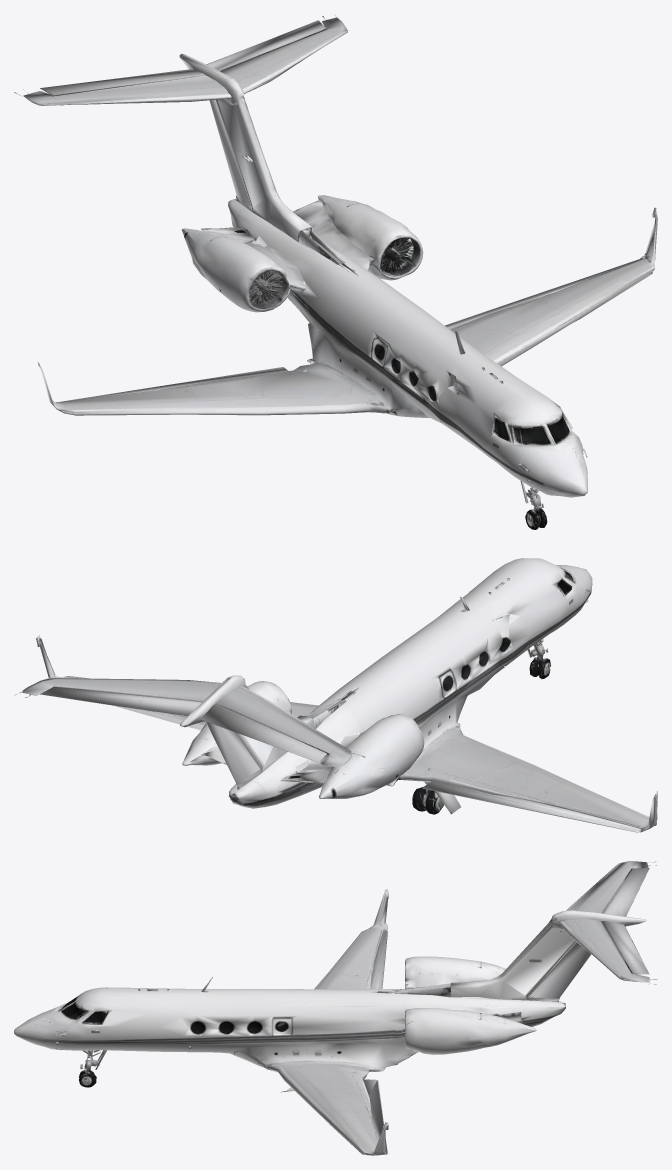
Rendered from private_jet.glb.
3 views of the same model, one above another, from view 1: azimuth 30°, elevation 25°; view 2: azimuth 150°, elevation 25°; view 3: azimuth 270°, elevation 25° (orthographic). The views are drawn at different scales.
Parts seen in each view (by area): view 1: prop; view 2: prop; view 3: prop.
Boxes of the visible parts, box(x1,y1,x2,y2) form: prop: box(14, 14, 657, 529); prop: box(14, 558, 657, 832); prop: box(14, 861, 657, 1155).
Bounding box in the file's own units: 11.29 × 3.91 × 13.
Materials: 1 (1 with a texture image).
